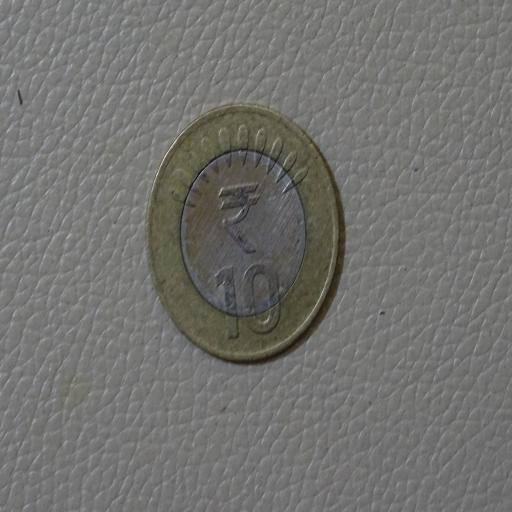rupee10: (140, 101, 347, 366)
